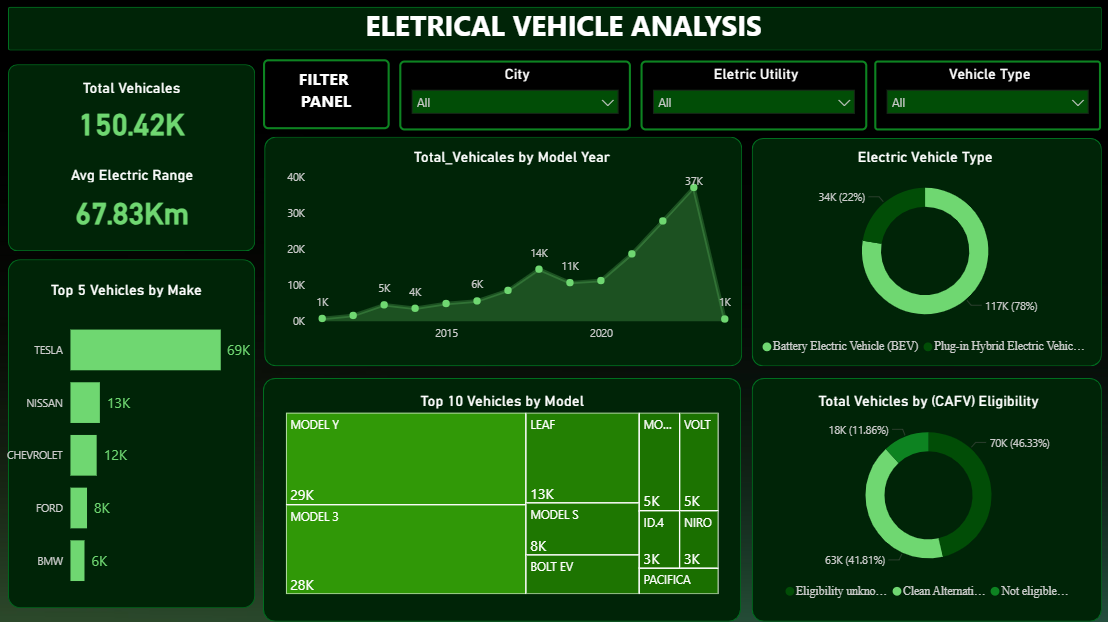

This screenshot's page, from the dashboard's own definition file:
{"tool":"powerbi","page":{"name":"Page 1","canvas":[1280,720],"ordinal":0},"visuals":[{"type":"shape","box":[10.8,75.7,282.5,213.6],"z":0},{"type":"shape","box":[11.2,10,1250,50],"z":1000},{"type":"textbox","box":[376.7,4.9,538.7,60.1],"z":2000},{"type":"card","title":"Total Vehicales","fields":{"Values":["Electric_Vehicle_Population_Data.Total_Vehicales"]},"box":[35.1,93.3,233.8,78.4],"z":3000},{"type":"card","title":"Avg Electric Range","fields":{"Values":["Electric_Vehicle_Population_Data.Avg Range"]},"box":[35.1,191.9,235.2,86.5],"z":4000},{"type":"shape","box":[10.8,298.7,282.5,398.7],"z":5000},{"type":"shape","box":[304.1,158.1,546.1,262.2],"z":6000},{"type":"areaChart","fields":{"Category":["Electric_Vehicle_Population_Data.Model Year"],"Y":["Electric_Vehicle_Population_Data.Total_Vehicales"]},"box":[325.7,171.7,523.1,229.8],"z":8000},{"type":"barChart","title":"Top 5 Vehicles by Make","fields":{"Y":["Electric_Vehicle_Population_Data.Total_Vehicales"],"Category":["Electric_Vehicle_Population_Data.Make"]},"box":[0,323,293.3,374.4],"z":9000},{"type":"shape","box":[861,433.9,400.1,278.4],"z":10000},{"type":"shape","box":[302.8,433.9,546.1,278.4],"z":11000},{"type":"donutChart","title":"Total Vehicles by (CAFV) Eligibility","fields":{"Category":["Electric_Vehicle_Population_Data.Clean Alternative Fuel Vehicle (CAFV) Eligibility"],"Y":["Electric_Vehicle_Population_Data.Total_Vehicales"]},"box":[888,450.1,350.1,247.3],"z":12000},{"type":"treemap","title":"Top 10 Vehicles by Model","fields":{"Group":["Electric_Vehicle_Population_Data.Model"],"Values":["Electric_Vehicle_Population_Data.Total_Vehicales"]},"box":[324.4,450.1,504.2,236.5],"z":13000},{"type":"textbox","box":[302.8,70.3,145,80],"z":14000},{"type":"slicer","title":"City","fields":{"Values":["Electric_Vehicle_Population_Data.City"]},"box":[458.2,71.6,265,80],"z":15000},{"type":"slicer","title":"Eletric Utility","fields":{"Values":["Electric_Vehicle_Population_Data.Electric Utility"]},"box":[733.9,71.6,259.5,80],"z":16000},{"type":"slicer","title":"Vehicle Type","fields":{"Values":["Electric_Vehicle_Population_Data.Electric Vehicle Type"]},"box":[1001.6,71.6,259.5,80],"z":17000},{"type":"shape","box":[861,159.5,400.1,260.9],"z":18000},{"type":"pieChart","title":"Electric Vehicle Type","fields":{"Category":["Electric_Vehicle_Population_Data.Electric Vehicle Type"],"Y":["Electric_Vehicle_Population_Data.Total_Vehicales"]},"box":[867.8,171.7,385.2,246],"z":18500}]}

Visuals, with their boxes in screenshot pixels (x1, y1, x2, y2), scaled from the page's 1280x720 canvas onto the 1108x622 screenshot:
shape: region(9, 65, 254, 250)
shape: region(10, 9, 1092, 52)
textbox: region(326, 4, 792, 56)
"Total Vehicales" card: region(30, 81, 233, 148)
"Avg Electric Range" card: region(30, 166, 234, 241)
shape: region(9, 258, 254, 602)
shape: region(263, 137, 736, 363)
areaChart - Electric_Vehicle_Population_Data.Model Year x Electric_Vehicle_Population_Data.Total_Vehicales: region(282, 148, 735, 347)
"Top 5 Vehicles by Make" barChart: region(0, 279, 254, 602)
shape: region(745, 375, 1092, 615)
shape: region(262, 375, 735, 615)
"Total Vehicles by (CAFV) Eligibility" donutChart: region(769, 389, 1072, 602)
"Top 10 Vehicles by Model" treemap: region(281, 389, 717, 593)
textbox: region(262, 61, 388, 130)
"City" slicer: region(397, 62, 626, 131)
"Eletric Utility" slicer: region(635, 62, 860, 131)
"Vehicle Type" slicer: region(867, 62, 1092, 131)
shape: region(745, 138, 1092, 363)
"Electric Vehicle Type" pieChart: region(751, 148, 1085, 361)
